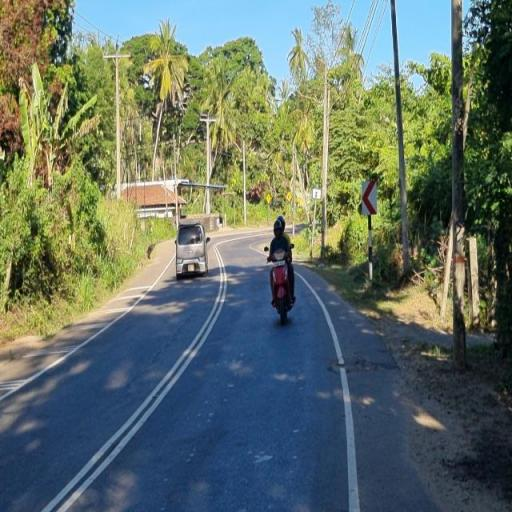double_white_line: (44, 238, 230, 510)
